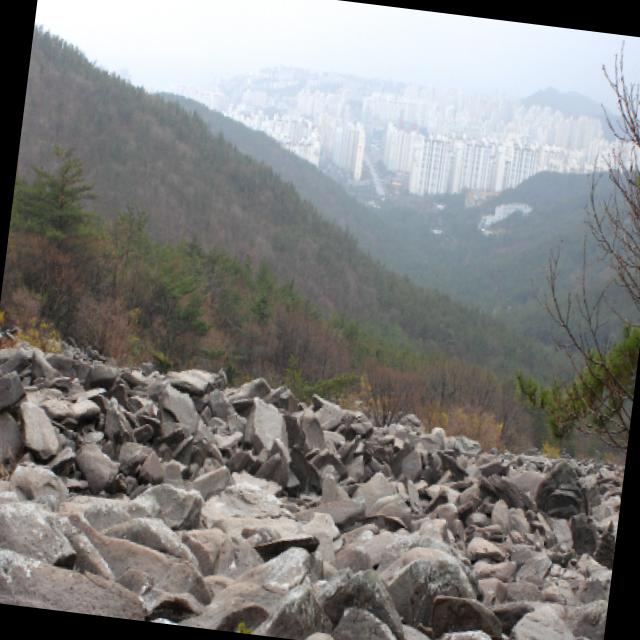rocks: (0, 343, 624, 640)
